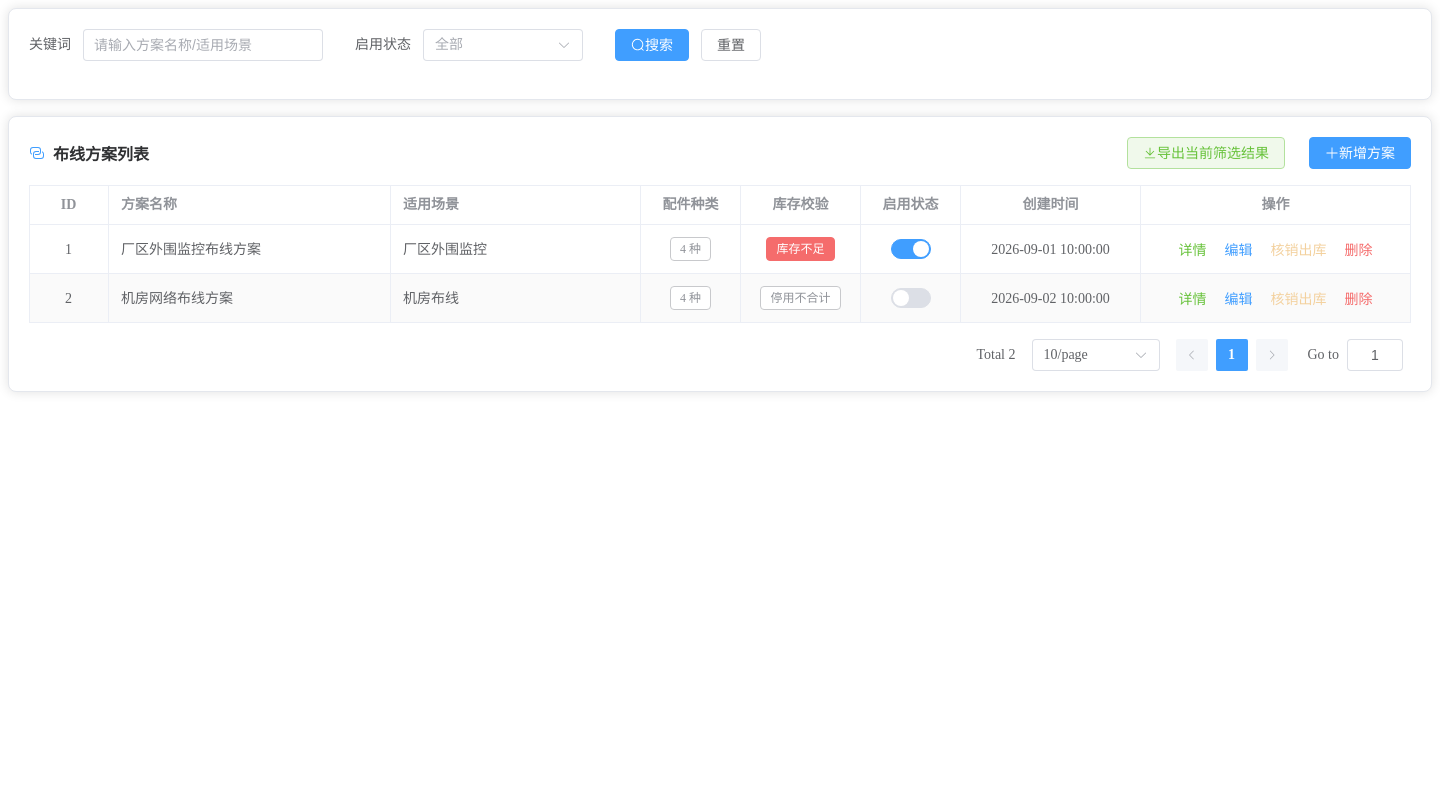
Test: 布线方案详情 - 分区分组展示 › 空明细方案展示空状态提示
The image size is (1440, 810).
Click the button "详情" in the row of "厂区外围监控布线方案": (1192, 250) [1176,240,1210,260]
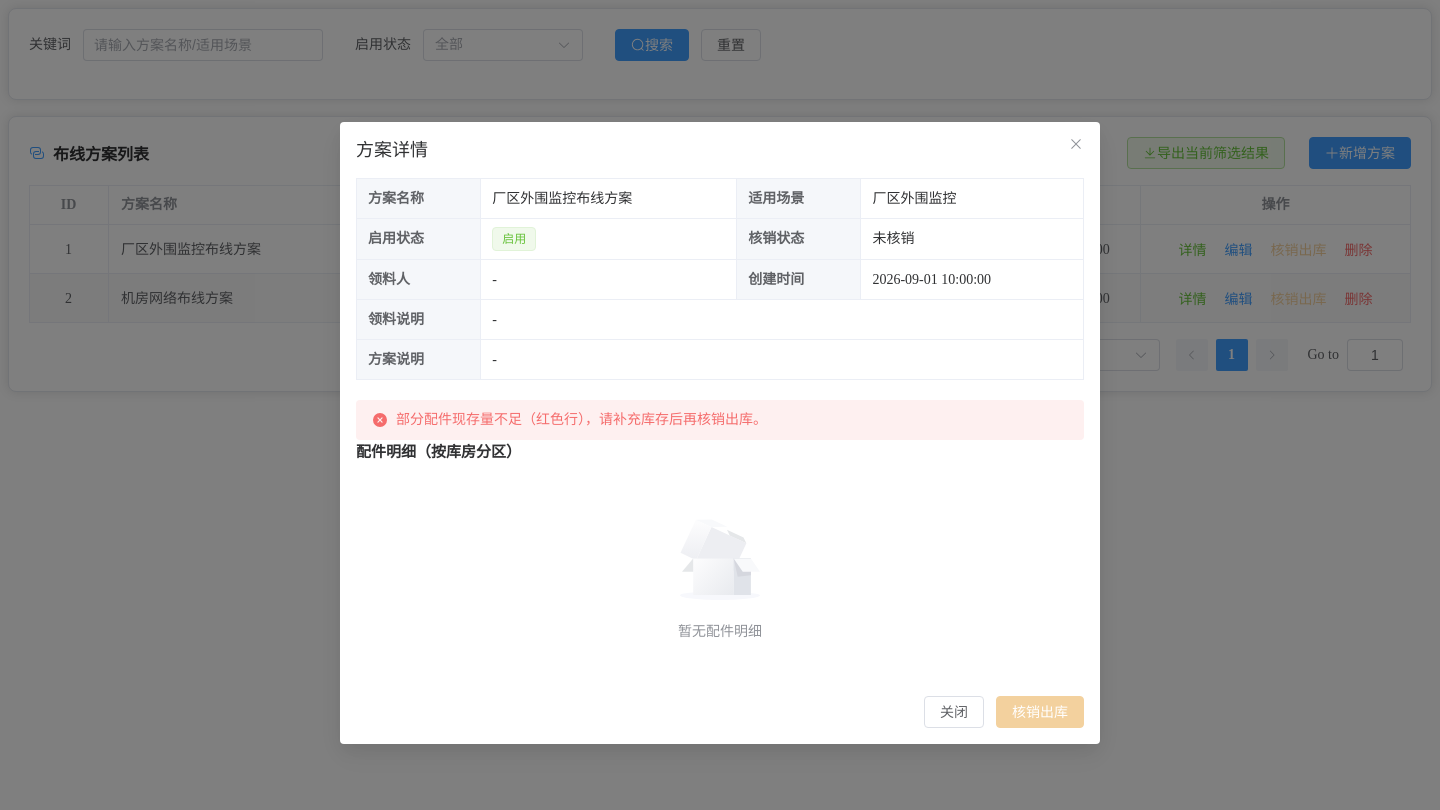
Now the element showing "暂无配件明细" is shown, box [678,513,762,639]
